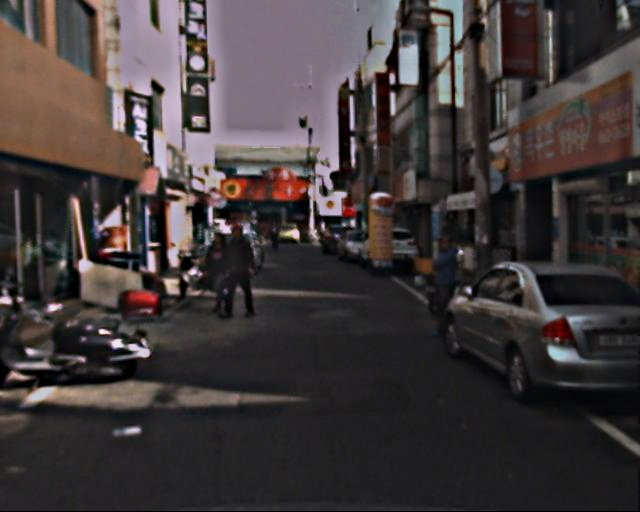person: (426, 228, 472, 345), (223, 219, 258, 319), (203, 226, 234, 310), (268, 221, 284, 252)
